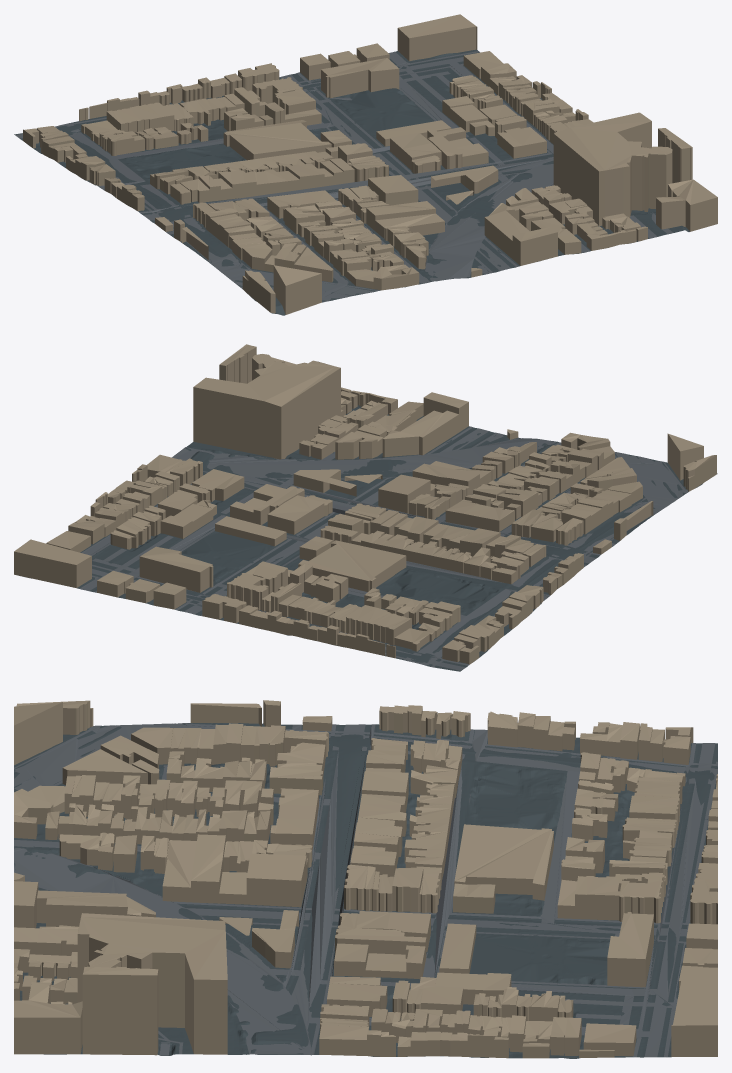
Rendered from epsg26910-1434-10886.lod0.glb.
3 renders of one model, top to bottom at view 1: azimuth 30°, elevation 25°; view 2: azimuth 150°, elevation 25°; view 3: azimuth 270°, elevation 25°, orthographic. The views are drawn at different scales.
Visible parts, largest first — view 1: epsg26910-1434-10886-lod0; view 2: epsg26910-1434-10886-lod0; view 3: epsg26910-1434-10886-lod0.
Boxes of the visible parts, x1=… form: epsg26910-1434-10886-lod0: x1=14, y1=14, x2=717, y2=315; epsg26910-1434-10886-lod0: x1=14, y1=344, x2=717, y2=671; epsg26910-1434-10886-lod0: x1=14, y1=700, x2=717, y2=1058.
Size of the model in its own units: 384 by 51.54 by 384.
